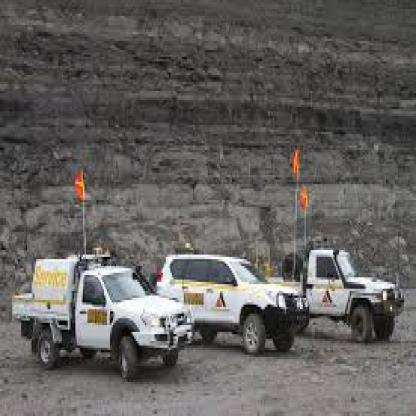light_vehicle: (10, 241, 196, 389), (186, 232, 310, 380), (307, 227, 407, 355)
